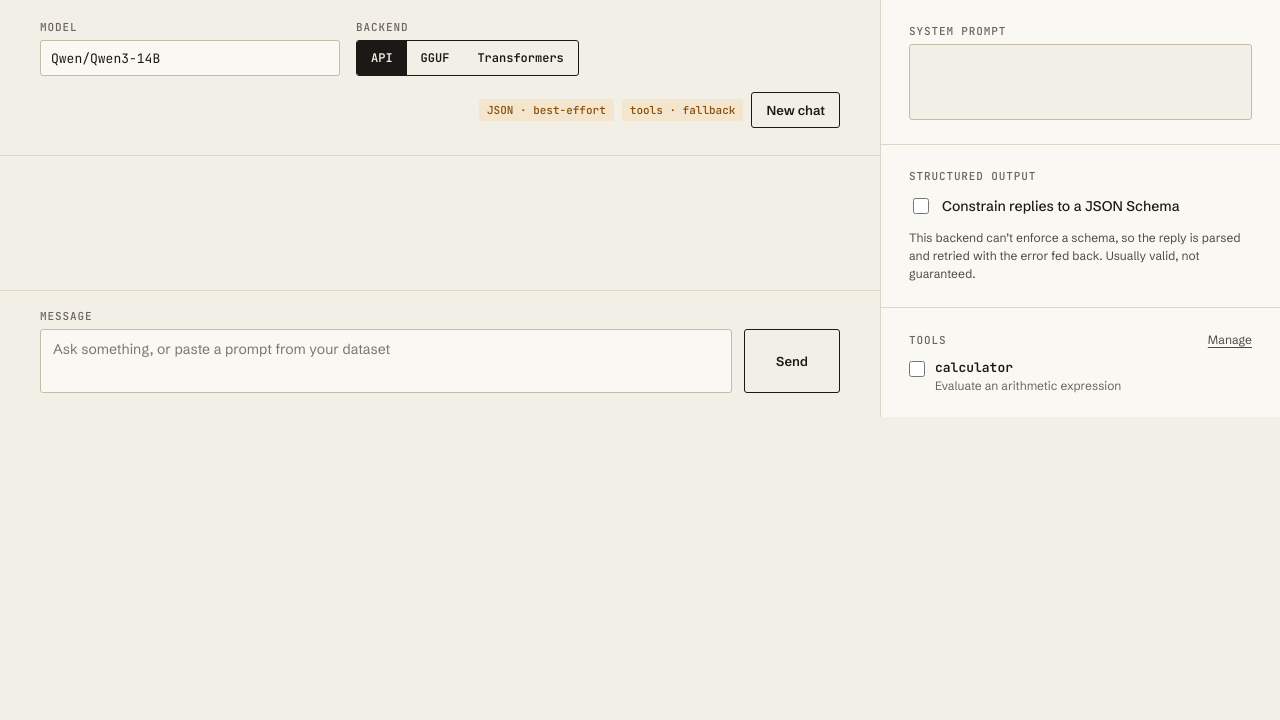
Test: PlaygroundPage › sends a message and renders the streamed reply with its metrics
expect the text "calculator" is shown: met, box [935,359,1013,376]
Type "hi there" into the text box labelled "Message" at (386, 361), box [40,329,732,393]
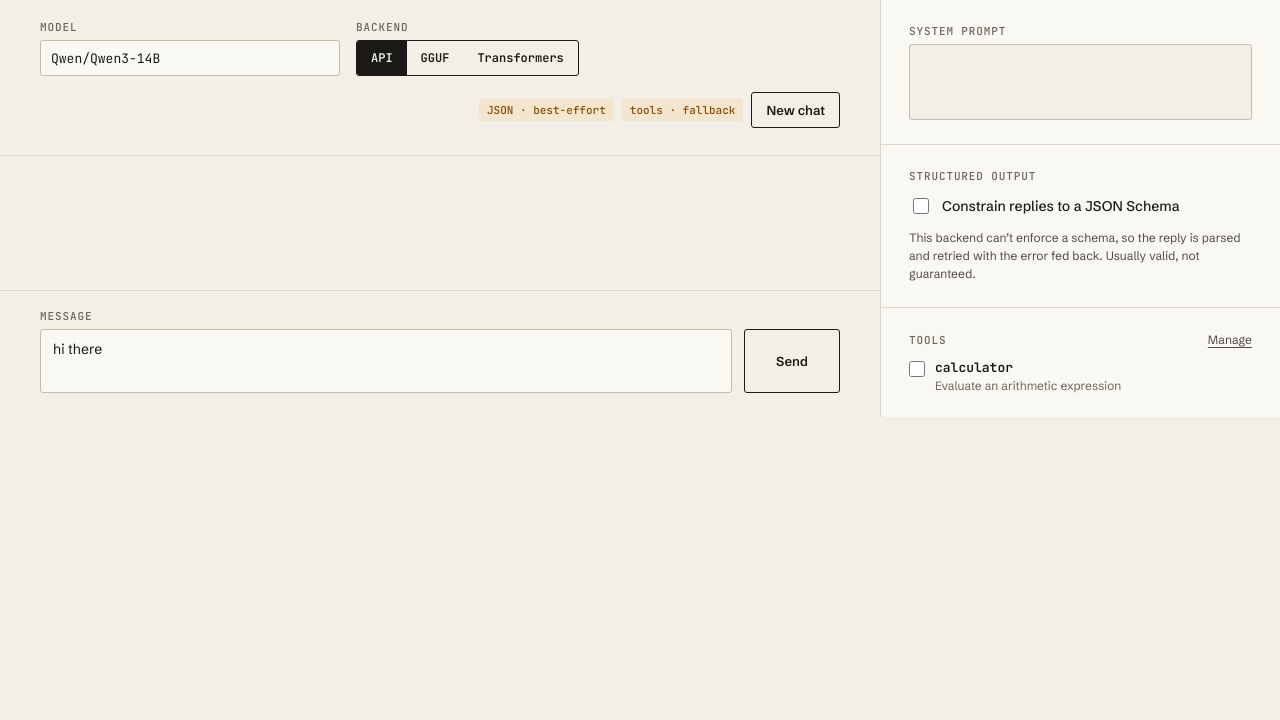
Click the button "Send" at (792, 361), box [744,329,840,393]
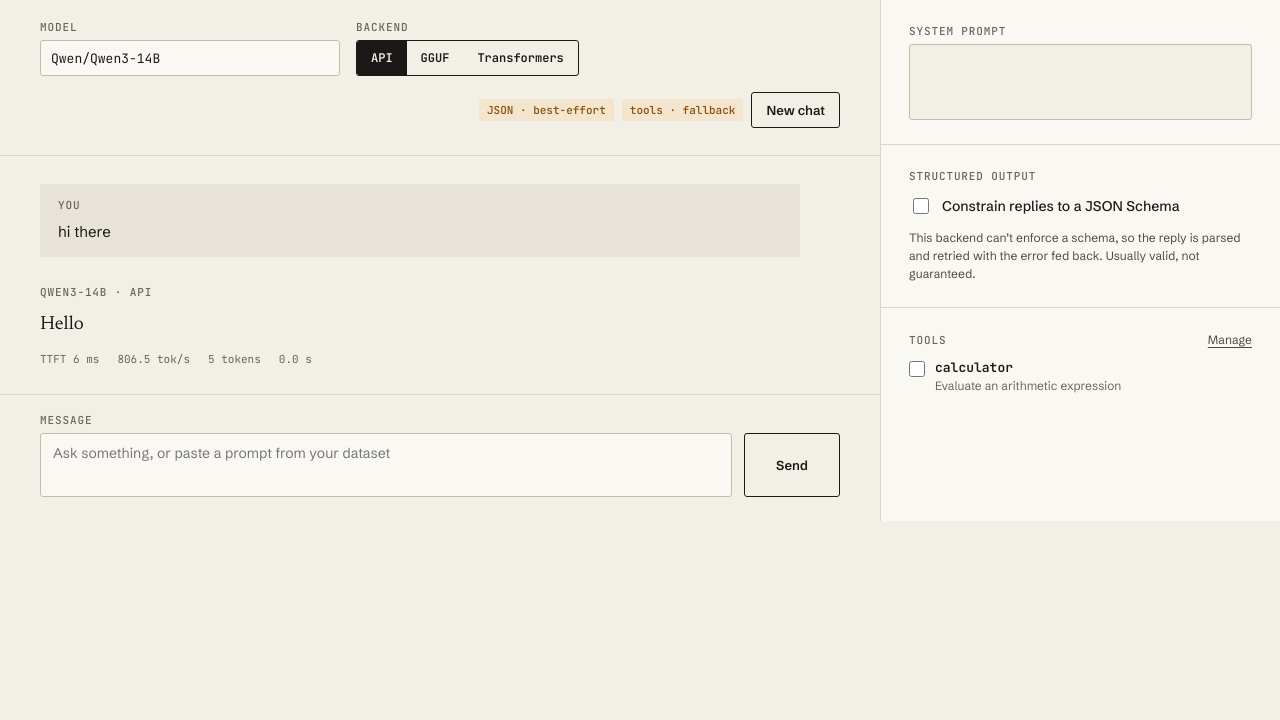
expect the text "Hello" is shown: met, box [40,315,84,334]
expect the text "5 tokens" is shown: met, box [208,352,261,366]
expect the text "806.5 tok/s" is shown: met, box [117,352,190,366]
